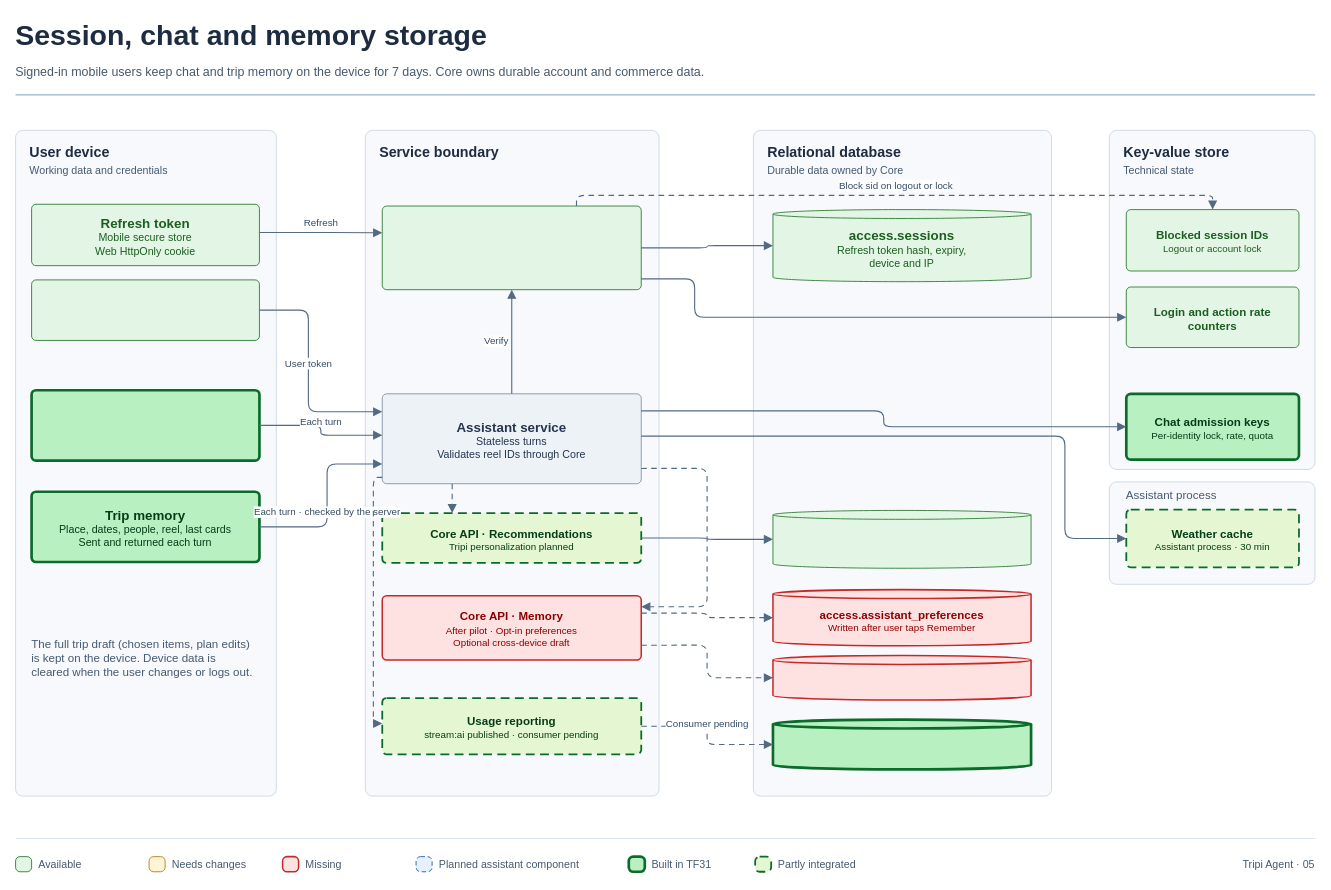
This 1331x890 diagram has some shape labels left out. Each missing label, with the centre of its shape:
"Access token In-memory · 15 min (to verify)" goes at [145,309].
"analytics.ai_usage_events Cost by feature, day, model" goes at [901,744].
"Chat history Signed-in · 7 days, text and kind Guests · app memory only" goes at [145,424].
"Core API · Access Refresh and session validation JWKS and GET /api/auth/me" goes at [511,247].
"discovery.recommend_user_features Implicit taste" goes at [901,539].
"trip_drafts Optional cross-device draft" goes at [901,677].
